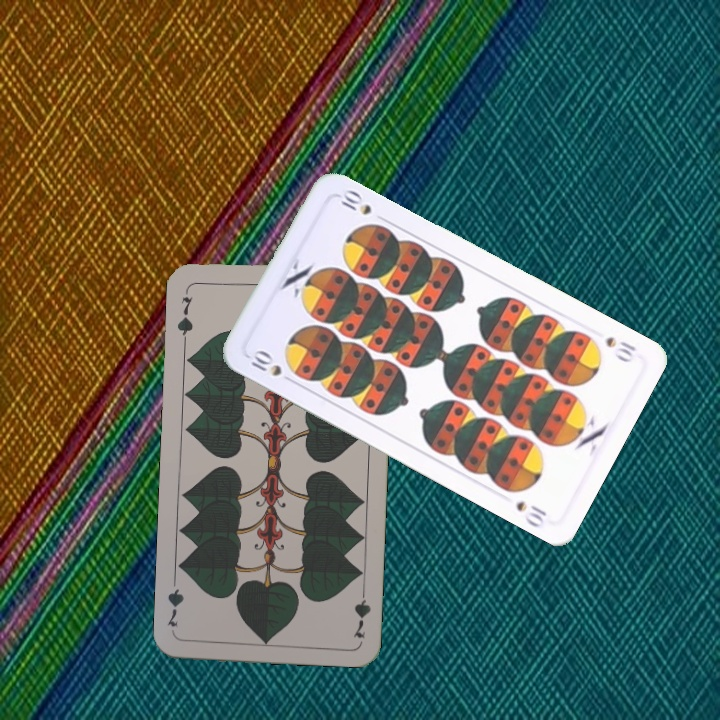G7: (349, 582, 373, 641), (173, 285, 196, 344)
S10: (244, 345, 298, 387), (601, 332, 639, 365)
